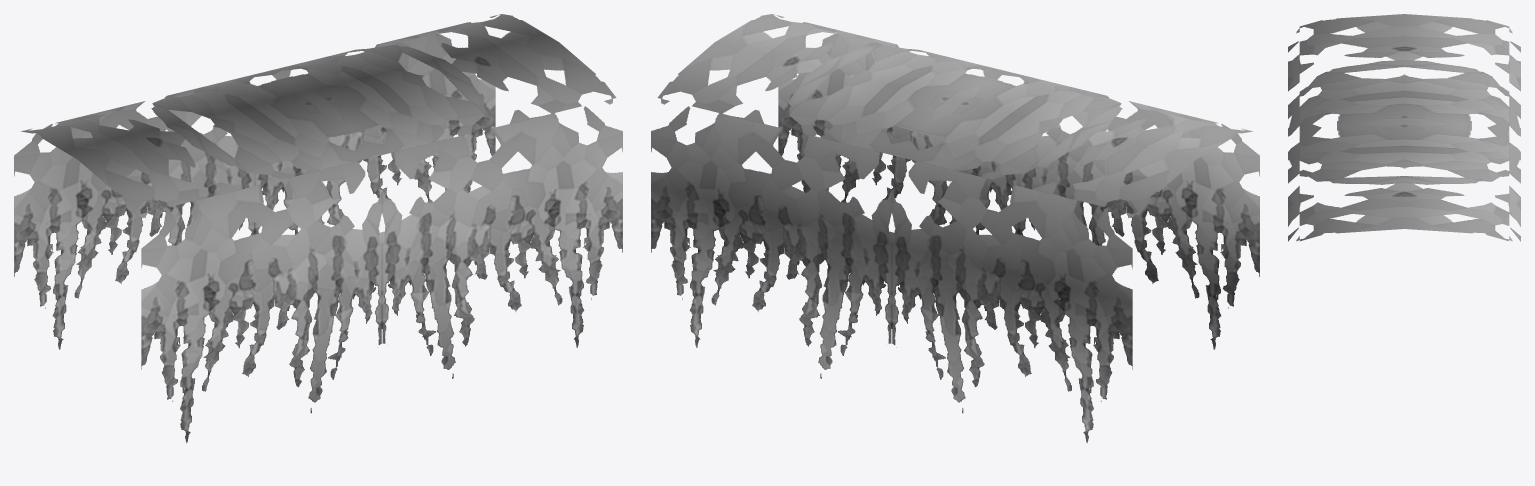
Rendered from moss_planes.fbx.
3 views of the same model, side by side, from view 1: azimuth 30°, elevation 25°; view 2: azimuth 150°, elevation 25°; view 3: azimuth 270°, elevation 25° (orthographic). The views are drawn at different scales.
Parts seen in each view (by area): view 1: sm_moss_planes1; view 2: sm_moss_planes1; view 3: sm_moss_planes1.
Boxes of the visible parts, <box> form: sm_moss_planes1: <box>14,14,622,442</box>; sm_moss_planes1: <box>651,14,1259,442</box>; sm_moss_planes1: <box>1288,14,1520,241</box>.
Bounding box in the file's own units: 1066 × 562 × 488.
1 material, 1 textured.
